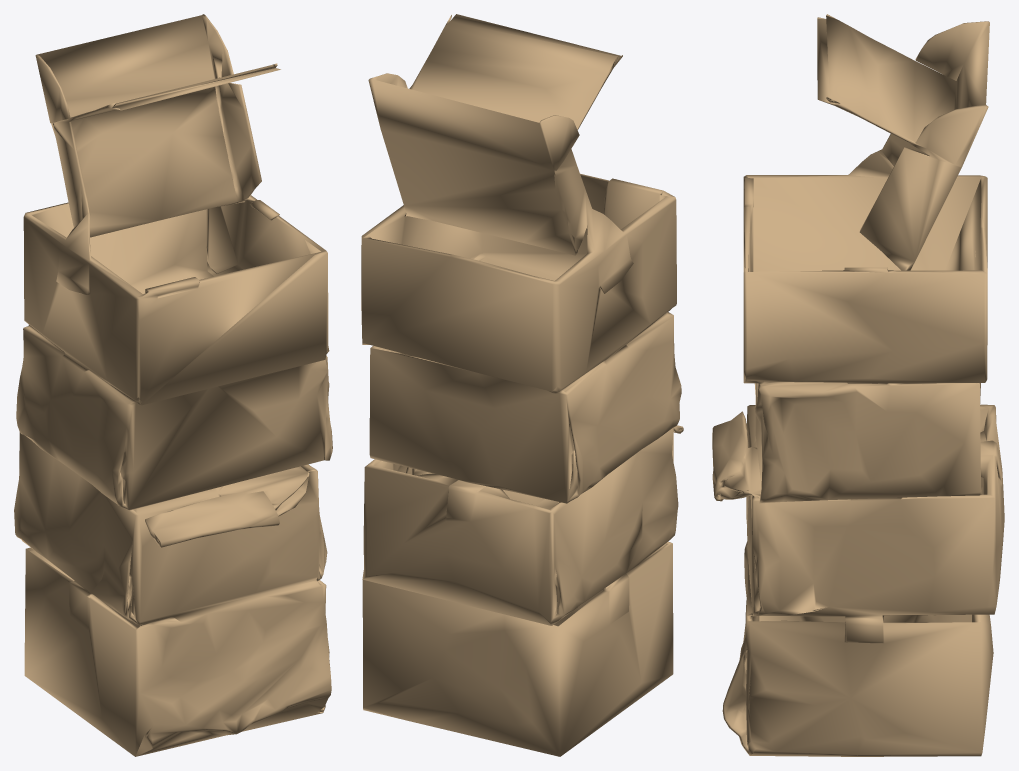
File: gen-cardboard-box-stack-1.glb
3 views of the same model, side by side, from view 1: azimuth 30°, elevation 25°; view 2: azimuth 150°, elevation 25°; view 3: azimuth 270°, elevation 25° (orthographic). The views are drawn at different scales.
Parts seen in each view (by area): view 1: gen-cardboard-box-stack-1_part1; view 2: gen-cardboard-box-stack-1_part1; view 3: gen-cardboard-box-stack-1_part1.
Part boxes in pixels (left/top/right/bottom): gen-cardboard-box-stack-1_part1: left=14, top=14, right=332, bottom=756; gen-cardboard-box-stack-1_part1: left=361, top=14, right=683, bottom=756; gen-cardboard-box-stack-1_part1: left=712, top=14, right=1004, bottom=756.
Size of the model in its own units: 483 by 1300 by 526.
